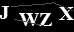J: (1, 5, 9, 20)
W: (17, 12, 40, 27)
X: (57, 6, 74, 21)
Z: (38, 12, 53, 27)
